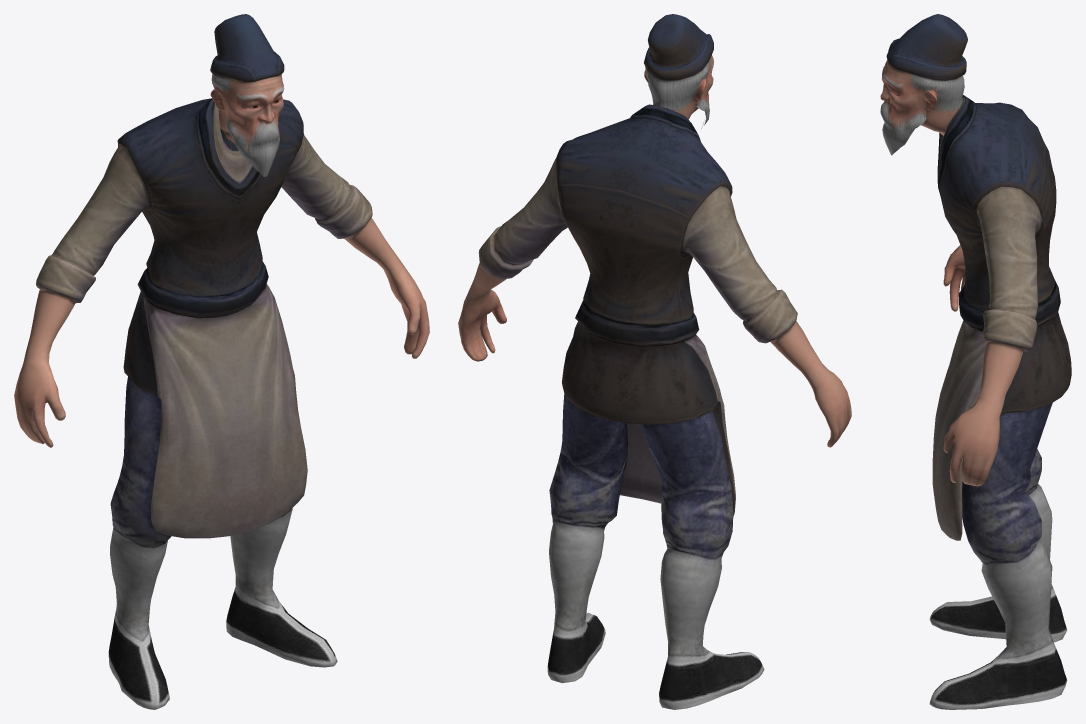
Rendered from c_old.glb.
The picture shows the model from 3 angles, left to right: view 1: azimuth 30°, elevation 25°; view 2: azimuth 150°, elevation 25°; view 3: azimuth 270°, elevation 25°; orthographic projection. The views are drawn at different scales.
Visible parts, largest first — view 1: Object_6; view 2: Object_6; view 3: Object_6.
Part boxes in pixels (x1,y1,x2,y2): Object_6: (14,14,429,709); Object_6: (458,14,851,709); Object_6: (880,14,1071,709).
Size of the model in its own units: 41.8 by 66.67 by 17.83.
Materials: 1 (1 with a texture image).
